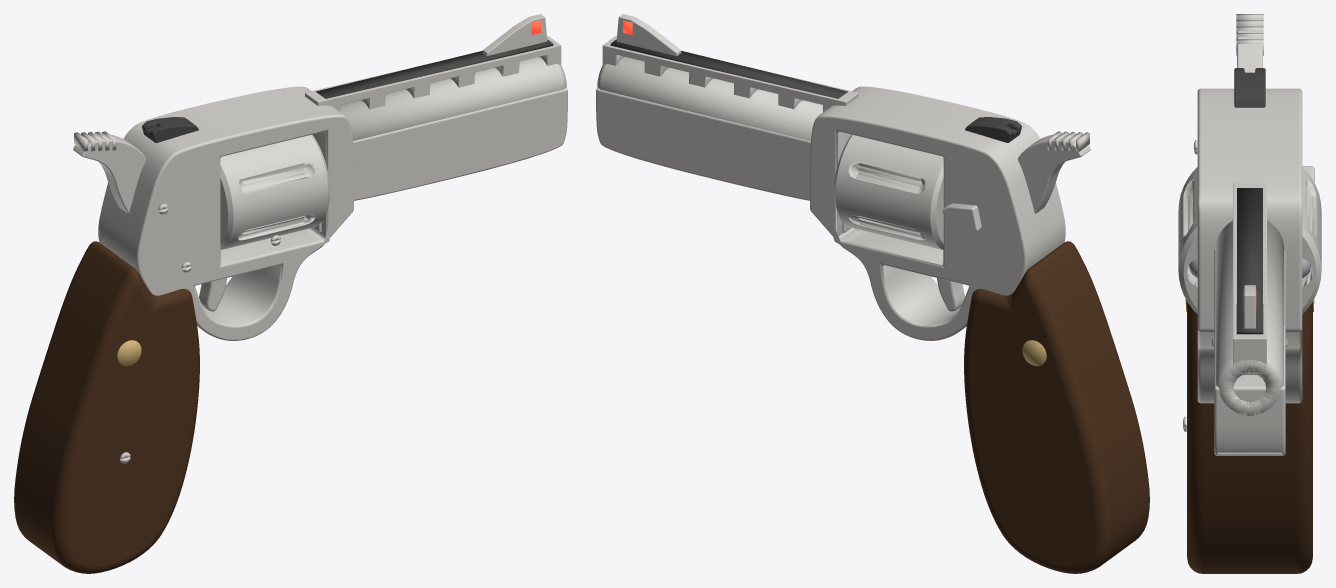
File: revolver.glb
3 renders of one model, left to right at view 1: azimuth 30°, elevation 25°; view 2: azimuth 150°, elevation 25°; view 3: azimuth 270°, elevation 25°, orthographic. The views are drawn at different scales.
Visible parts, largest first — view 1: body-nickel, body-walnut, cylinder-nickel, body-parker, hammer-nickel; view 2: body-nickel, body-walnut, cylinder-nickel, body-parker, hammer-nickel, latch-nickel; view 3: body-nickel, body-walnut, body-parker, cylinder-nickel, hammer-nickel.
Part boxes in pixels (left/top/right/bottom): body-nickel: left=98, top=14, right=567, bottom=463; body-walnut: left=14, top=241, right=199, bottom=573; cylinder-nickel: left=220, top=134, right=329, bottom=250; body-parker: left=142, top=39, right=553, bottom=142; hammer-nickel: left=73, top=131, right=146, bottom=213; body-nickel: left=596, top=14, right=1065, bottom=340; body-walnut: left=964, top=241, right=1149, bottom=573; cylinder-nickel: left=834, top=134, right=943, bottom=250; body-parker: left=610, top=39, right=1021, bottom=142; hammer-nickel: left=1017, top=131, right=1090, bottom=213; latch-nickel: left=942, top=203, right=981, bottom=230; body-nickel: left=1183, top=88, right=1302, bottom=455; body-walnut: left=1187, top=301, right=1312, bottom=573; body-parker: left=1234, top=68, right=1265, bottom=334; cylinder-nickel: left=1178, top=167, right=1321, bottom=313; hammer-nickel: left=1236, top=14, right=1263, bottom=72.
Bounding box in the file's own units: 0.2224 × 0.1755 × 0.041.
